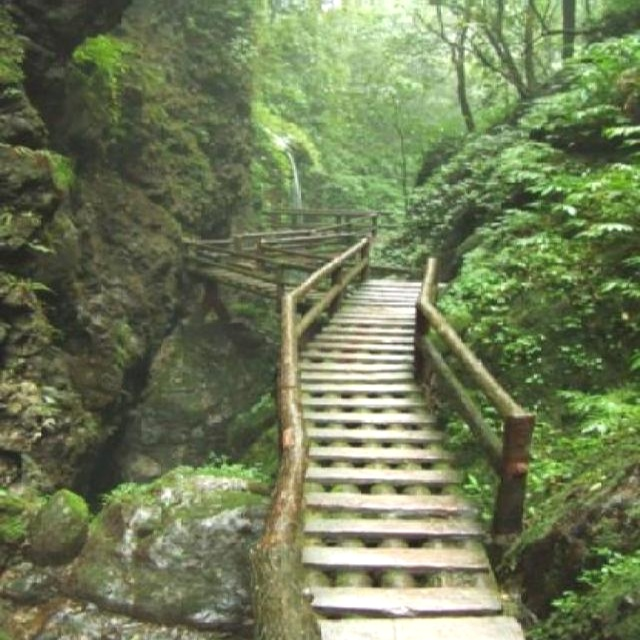stair: (180, 206, 528, 640)
